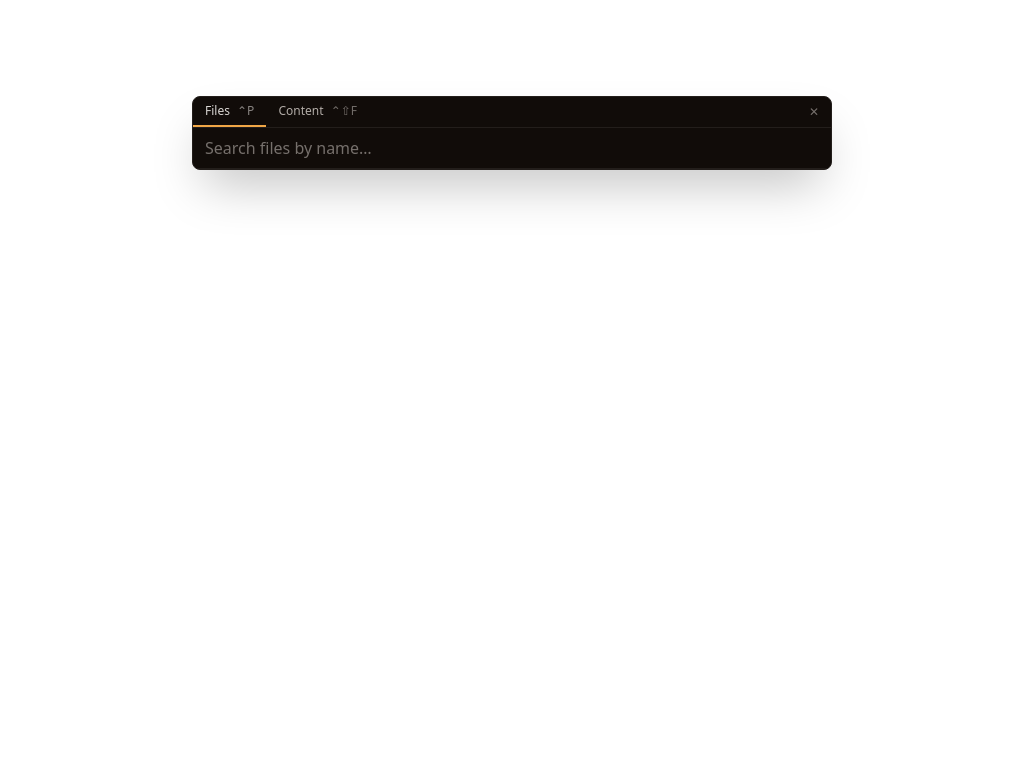
SearchModal › renders streamed filename hits
In the field with test id "search-input": (512, 148) [193,128,831,169], type "foo"
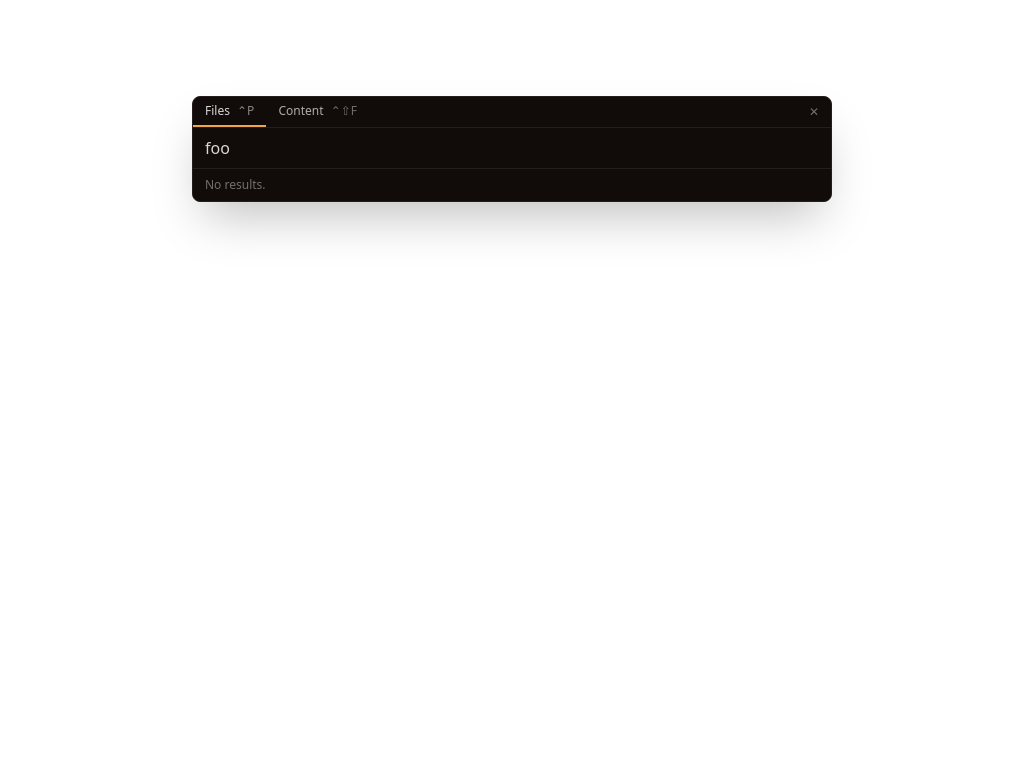
Submit the form with test id "search-input", box [193,128,831,169]
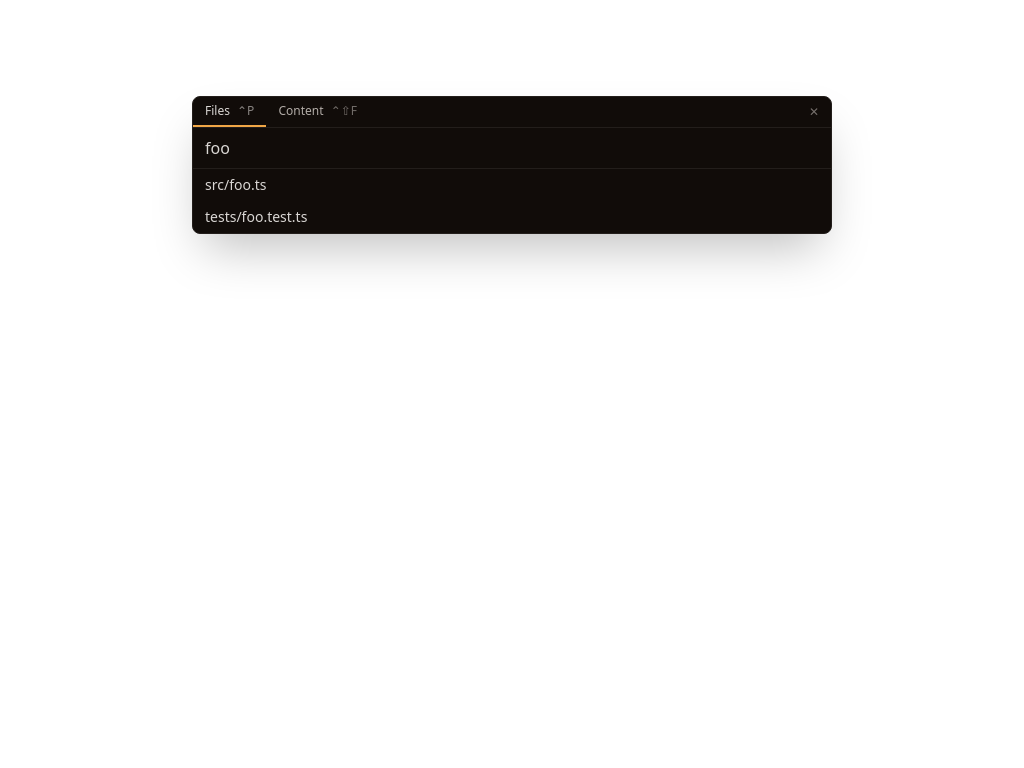
Now the number of options with test id "search-hit" is 2, box [193,169,831,201]; [193,201,831,233]
Now the option with test id "search-hit" reads "src/foo.ts", box [193,169,831,201]
